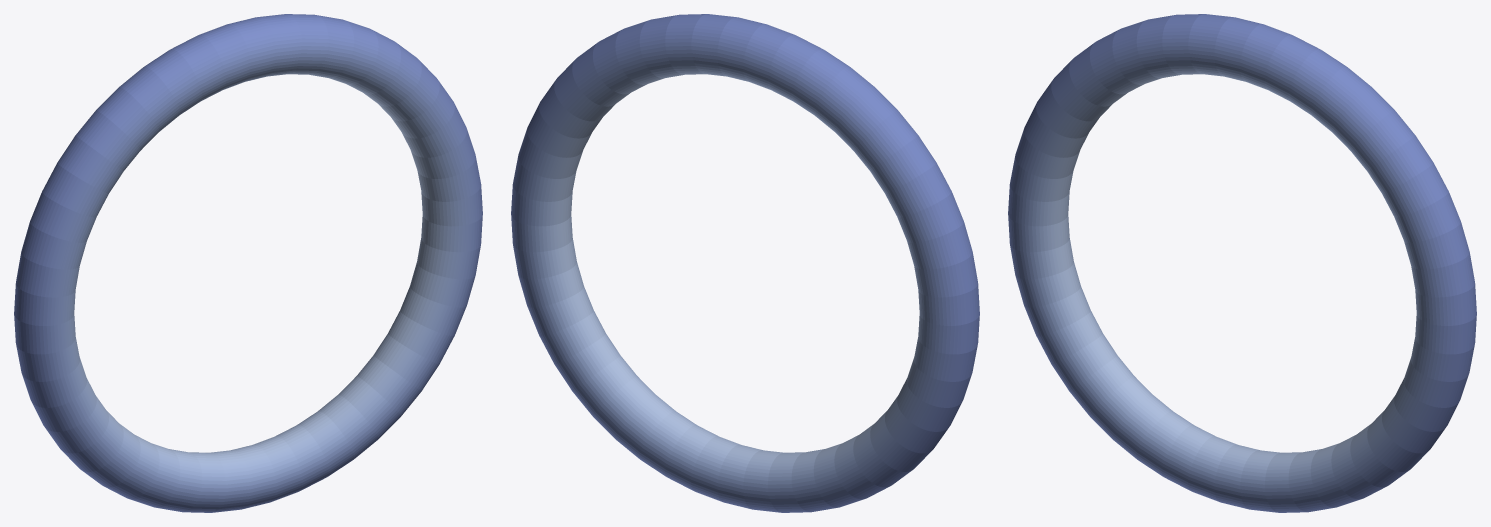
The picture shows the model from 3 angles, left to right: view 1: azimuth 30°, elevation 25°; view 2: azimuth 150°, elevation 25°; view 3: azimuth 330°, elevation 25°; orthographic projection.
Parts seen in each view (by area): view 1: world; view 2: world; view 3: world.
Boxes of the visible parts, x1=… form: world: x1=14, y1=14, x2=482, y2=512; world: x1=511, y1=14, x2=979, y2=512; world: x1=1008, y1=14, x2=1476, y2=512.
Size of the model in its own units: 27.07 by 27.01 by 3.06.
